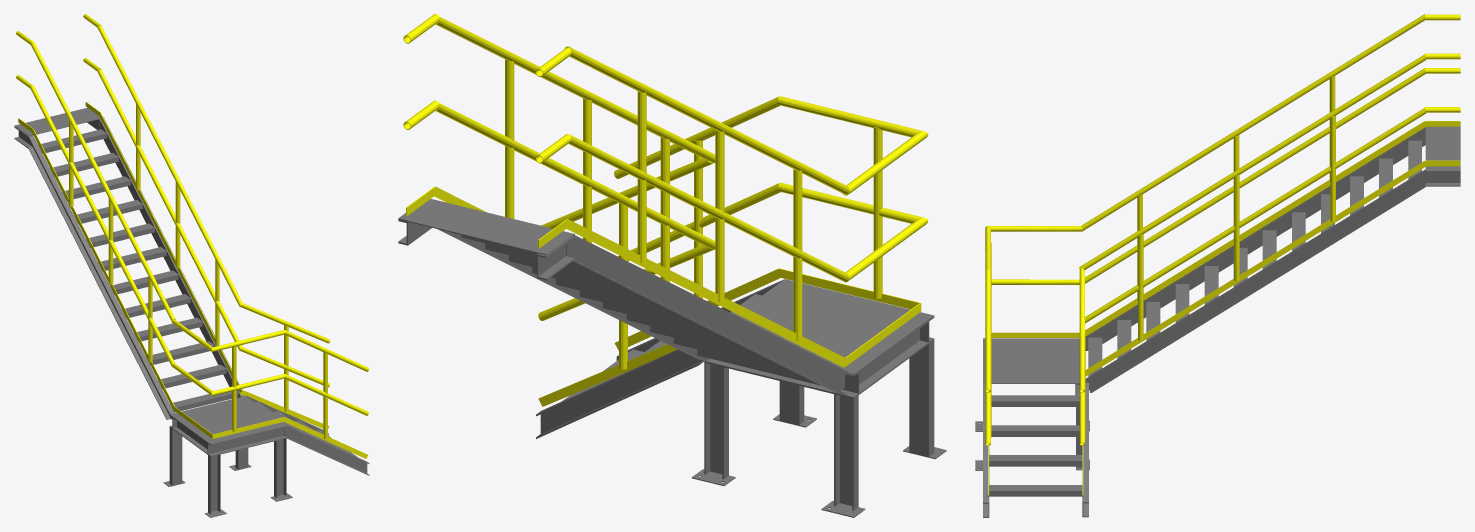
Rendered from lox_str_metaport_1.fbx.
3 renders of one model, left to right at view 1: azimuth 30°, elevation 25°; view 2: azimuth 150°, elevation 25°; view 3: azimuth 270°, elevation 25°, orthographic. The views are drawn at different scales.
Parts seen in each view (by area): view 1: UPN_120_8, PL-6_34, UPN_120_7, HS48x3.2_132, 3D_Solid_109, 3D_Solid_99, HS48x3.2_129, UPN_120_57, 3D_Solid_89, UPN_140_30, FB50x6_126, PL-6_28 (+26 smaller); view 2: PL-6_34, UPN_120_8, PL-6_28, UPN_120_56, 3D_Solid_89, 3D_Solid_109, 3D_Solid_99, UPN_120_63, UPN_120_65, UPN_120_69, HS48x3.2_129, HS48x3.2_132 (+34 smaller); view 3: UPN_120_7, UPN_120_8, PL-6_34, HS48x3.2_132, 3D_Solid_109, FB50x6_126, 3D_Solid_89, HS48x3.2_129, 3D_Solid_99, PL-6_28, UPN_120_58, UPN_120_59 (+11 smaller).
Part boxes in pixels (box(x1,y1,x2,y2)): UPN_120_8: box(28, 135, 174, 419); PL-6_34: box(169, 396, 286, 444); UPN_120_7: box(99, 118, 244, 397); HS48x3.2_132: box(97, 25, 242, 306); 3D_Solid_109: box(30, 41, 175, 321); 3D_Solid_99: box(30, 85, 174, 365); HS48x3.2_129: box(97, 69, 242, 350); UPN_120_57: box(284, 424, 369, 475); 3D_Solid_89: box(32, 129, 174, 409); UPN_140_30: box(207, 426, 286, 456); FB50x6_126: box(99, 112, 241, 392); PL-6_28: box(14, 107, 103, 136); PL-6_34: box(735, 279, 934, 375); UPN_120_8: box(566, 235, 852, 394); PL-6_28: box(398, 199, 574, 255); UPN_120_56: box(536, 349, 704, 438); 3D_Solid_89: box(566, 219, 845, 367); 3D_Solid_109: box(564, 46, 849, 194); 3D_Solid_99: box(568, 135, 849, 282); UPN_120_63: box(909, 340, 934, 456); UPN_120_65: box(834, 394, 858, 510); UPN_120_69: box(704, 361, 728, 478); HS48x3.2_129: box(435, 103, 715, 249); HS48x3.2_132: box(435, 16, 715, 162); UPN_120_7: box(1085, 169, 1425, 392); UPN_120_8: box(1085, 127, 1425, 350); PL-6_34: box(983, 338, 1079, 383); HS48x3.2_132: box(1079, 54, 1426, 269); 3D_Solid_109: box(1081, 14, 1425, 230); FB50x6_126: box(1085, 161, 1426, 376); 3D_Solid_89: box(1085, 121, 1426, 336); HS48x3.2_129: box(1085, 108, 1426, 323); 3D_Solid_99: box(1085, 68, 1425, 283); PL-6_28: box(1425, 126, 1460, 171); UPN_120_58: box(989, 485, 1082, 496); UPN_120_59: box(989, 455, 1082, 466).
Bounding box in the file's own units: 1972 × 3910 × 4170.
